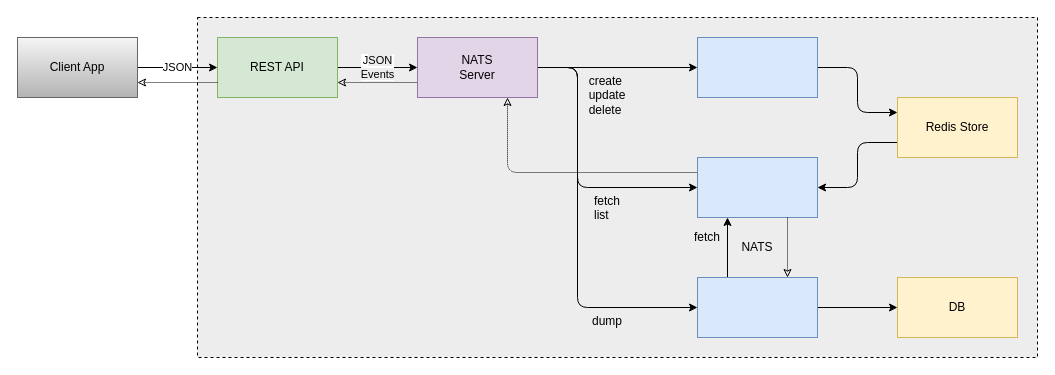
The diagram is 1055 pixels wide and 375 high, and some of its shapes have lost their labels. Here are the shapes that lost their labels. From the top down, the box of each, then its label:
(696, 36, 818, 98): Payment Processing Service
(696, 156, 818, 218): Payment Querying Service
(696, 276, 818, 338): Payment Dump Service
